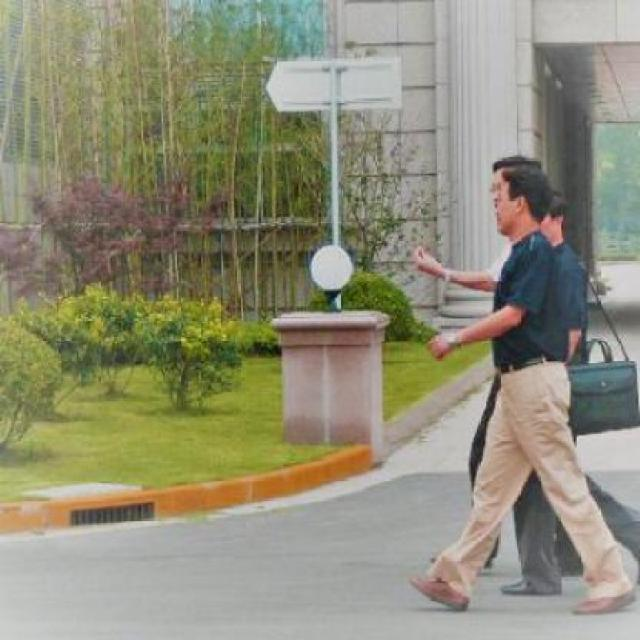Person: (415, 166, 639, 620)
